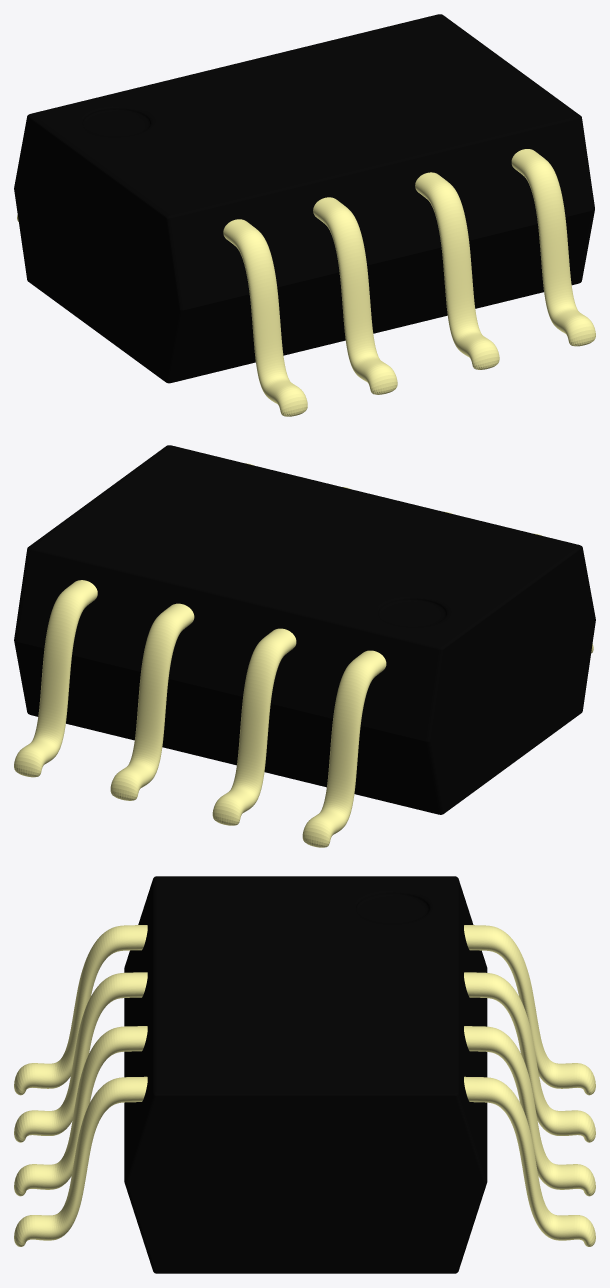
File: SmallChipComponent.fbx
3 views of the same model, one above another, from view 1: azimuth 30°, elevation 25°; view 2: azimuth 150°, elevation 25°; view 3: azimuth 270°, elevation 25° (orthographic). The views are drawn at different scales.
Visible parts, largest first — view 1: Cube, Cylinder.005; view 2: Cube, Cylinder.001; view 3: Cube, Cylinder.005, Cylinder.001.
Part boxes in pixels (left/top/right/bottom): Cube: left=14, top=14, right=594, bottom=383; Cylinder.005: left=223, top=149, right=595, bottom=416; Cube: left=14, top=445, right=595, bottom=814; Cylinder.001: left=14, top=580, right=386, bottom=847; Cube: left=124, top=876, right=487, bottom=1273; Cylinder.005: left=14, top=925, right=147, bottom=1246; Cylinder.001: left=464, top=925, right=595, bottom=1246.
Size of the model in its own units: 121 by 47.21 by 136.
Materials: 1 (1 with a texture image).
